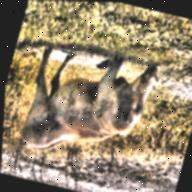boar: (15, 37, 164, 175)
